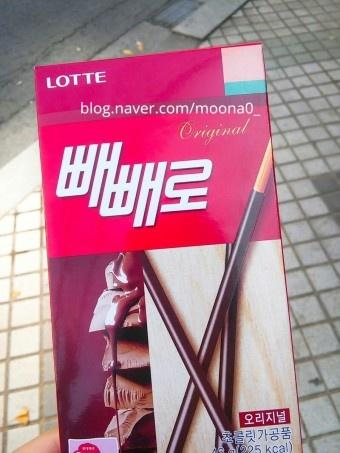snack: (32, 39, 304, 453)
